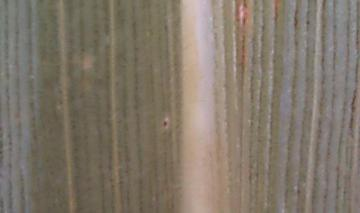tarspot: (162, 119, 168, 128), (305, 19, 311, 26)
